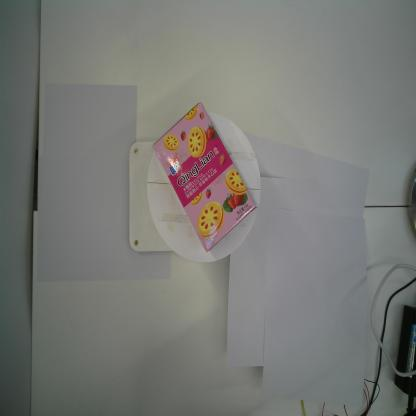Dessert: (152, 101, 256, 253)
